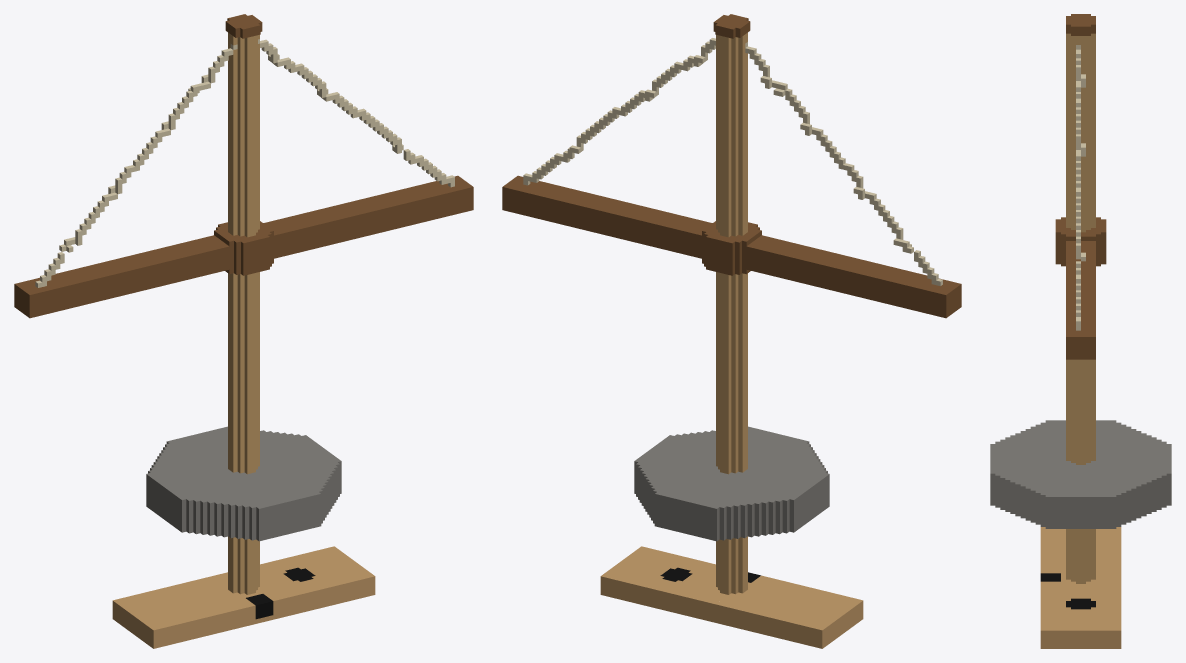
File: fire_drill_large.glb
3 views of the same model, side by side, from view 1: azimuth 30°, elevation 25°; view 2: azimuth 150°, elevation 25°; view 3: azimuth 270°, elevation 25° (orthographic).
Visible parts, largest first — view 1: fire_drill_large:compound; view 2: fire_drill_large:compound; view 3: fire_drill_large:compound.
Part boxes in pixels (bbox=[...]): fire_drill_large:compound: bbox=[14, 14, 473, 648]; fire_drill_large:compound: bbox=[502, 14, 961, 648]; fire_drill_large:compound: bbox=[990, 14, 1171, 648].
Bounding box in the file's own units: 0.4 × 0.504 × 0.144.
